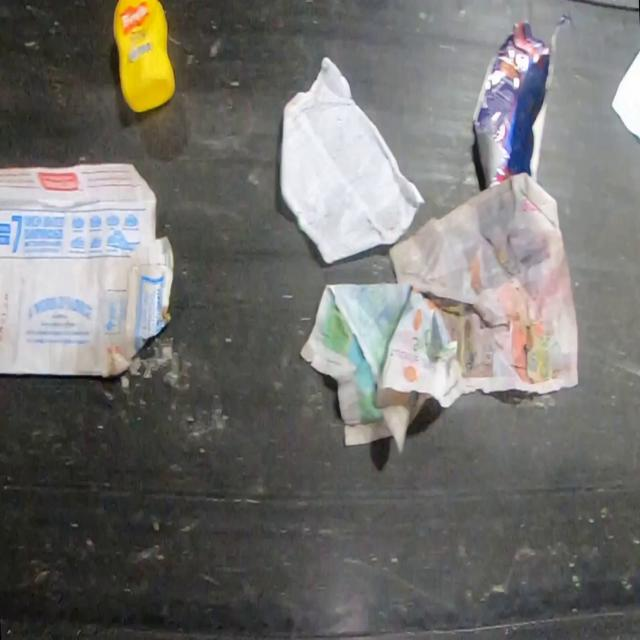cardboard: (0, 163, 176, 379)
rigid_plastic: (113, 0, 175, 115)
